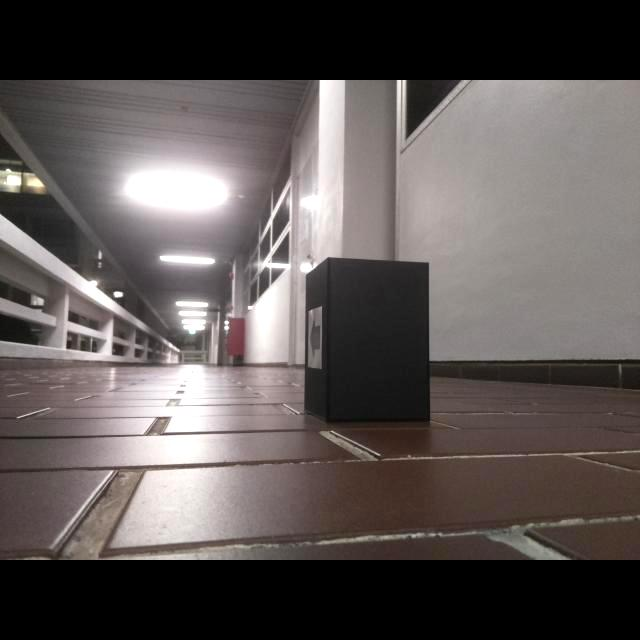LEFT: (309, 313, 320, 361)
